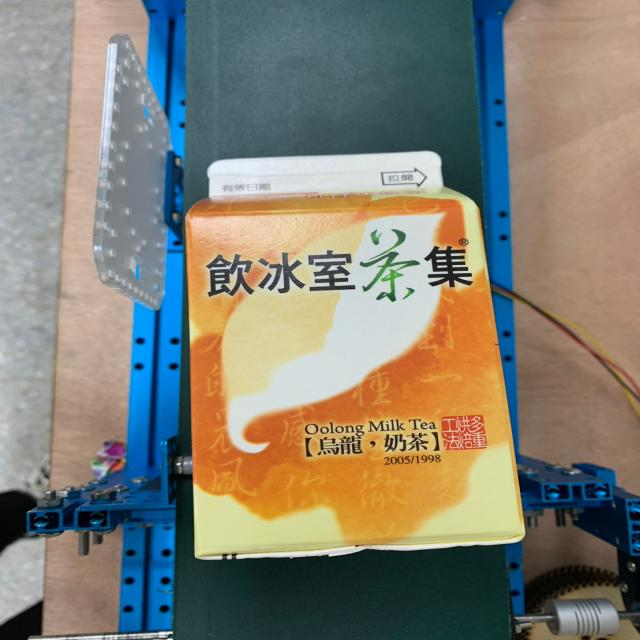non_white_jug: (166, 143, 551, 568)
